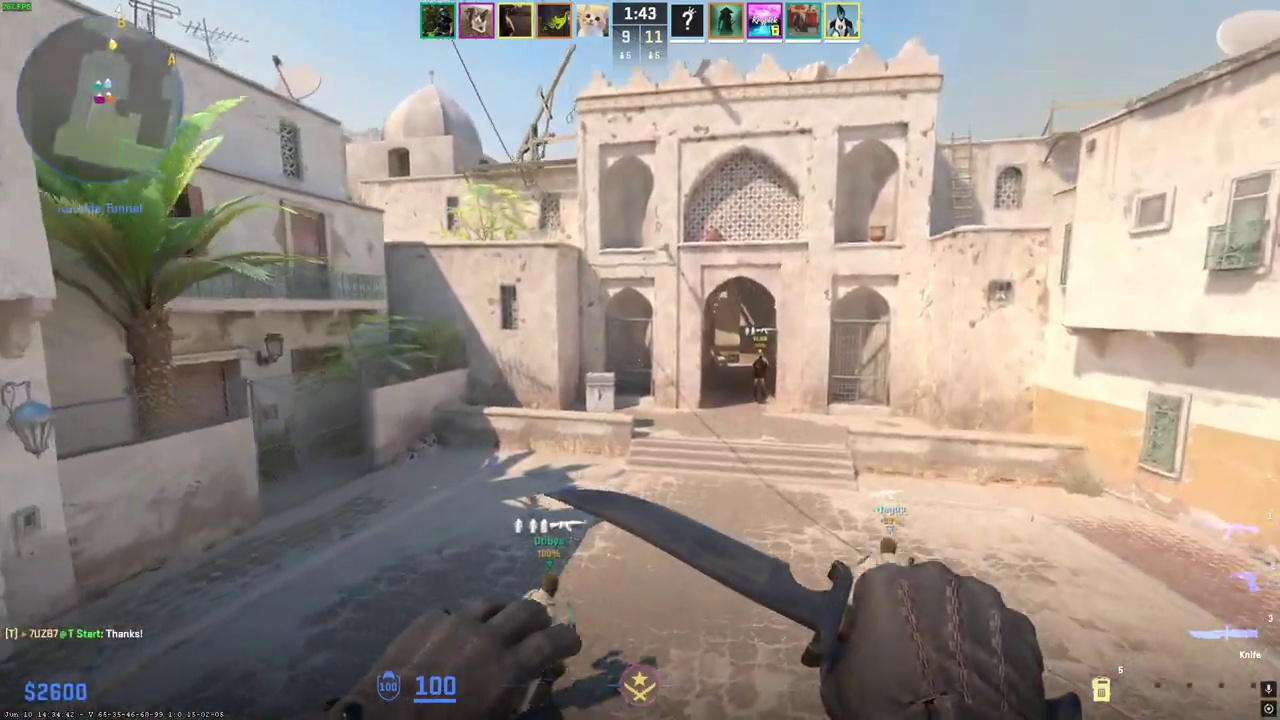Terrorist: (858, 536, 914, 574), (523, 573, 565, 622), (753, 355, 767, 402)
